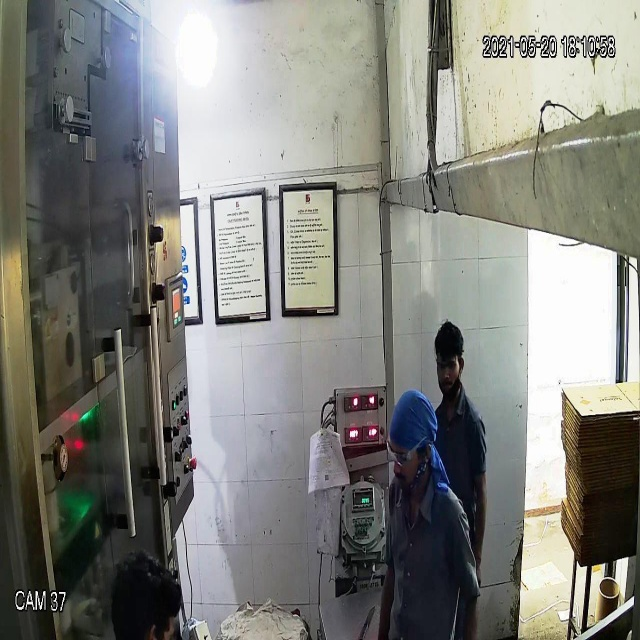Gafas: (380, 431, 427, 468)
Sin_gafas: (433, 354, 464, 380)
